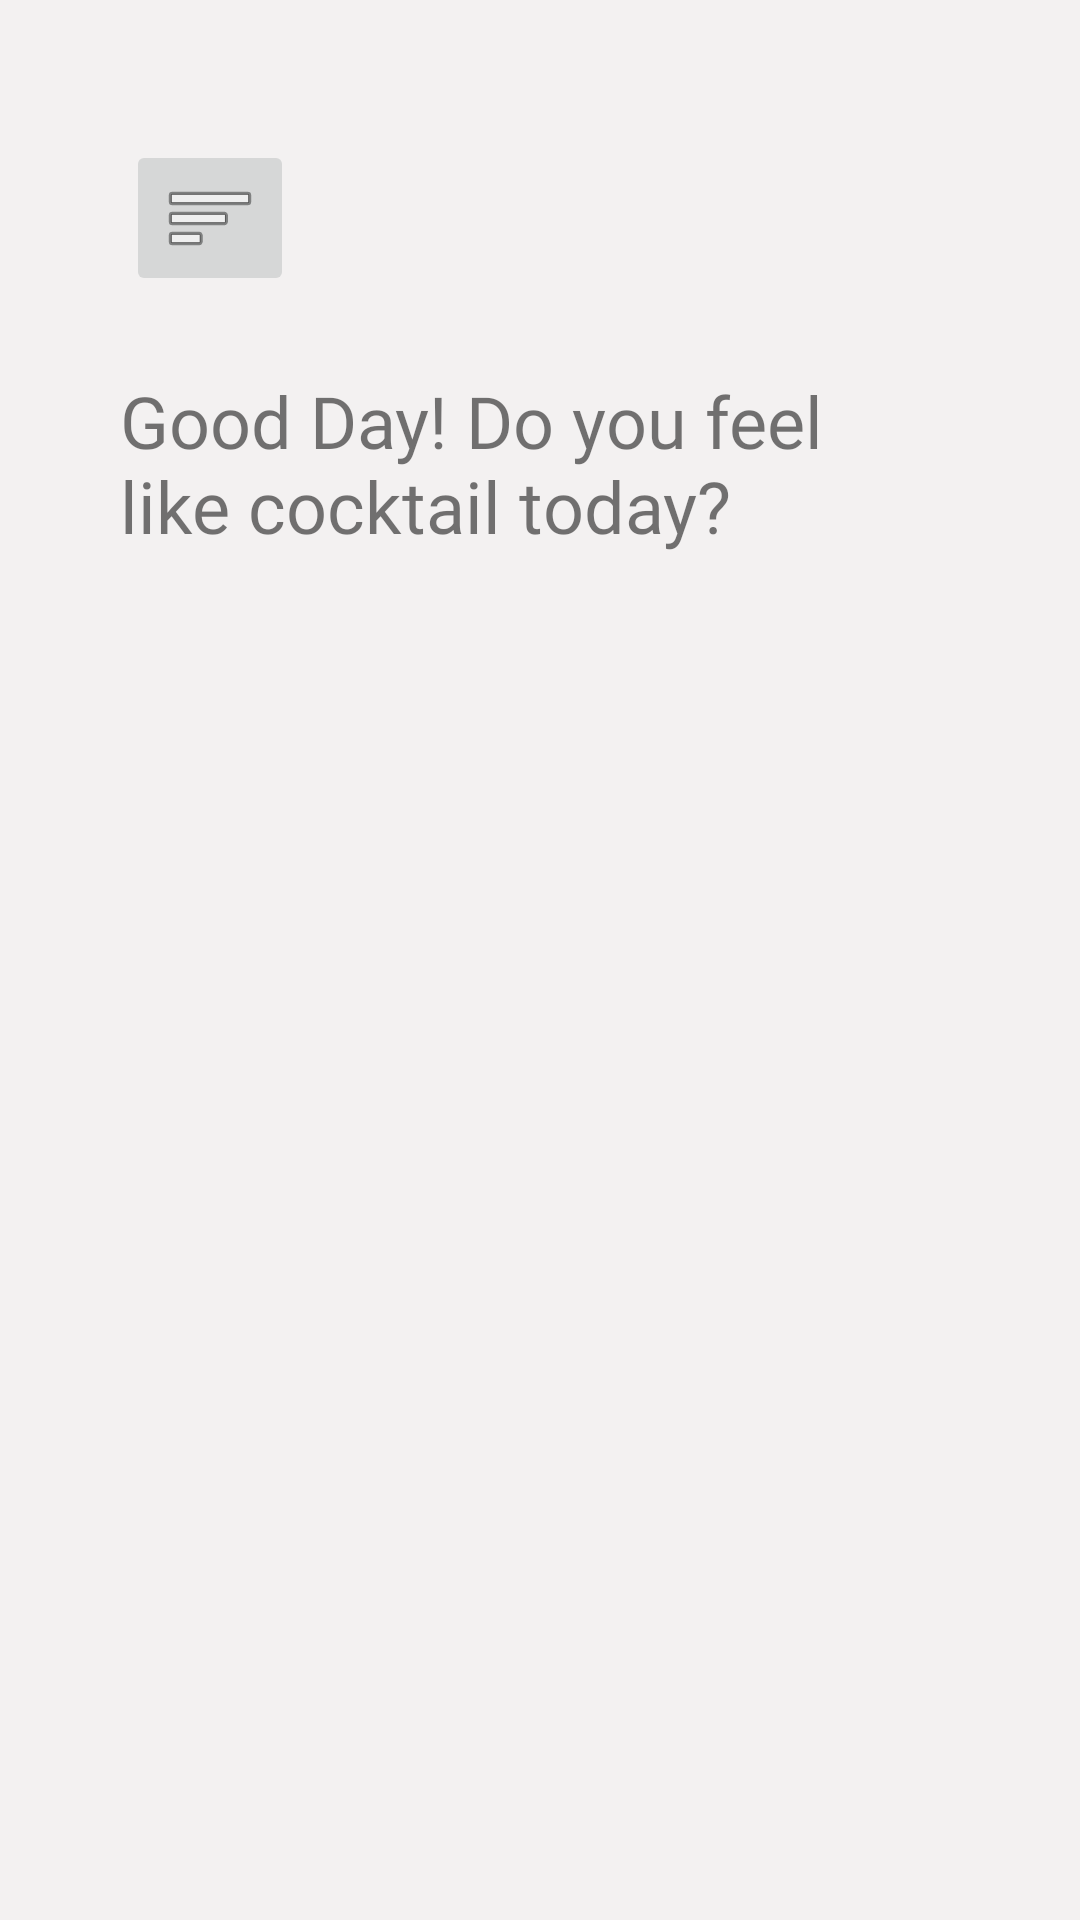

Named icons in this screenshot (1080px x 1920px) and their centers, (x=x, y=y):
sort by size: (x=210, y=218)
